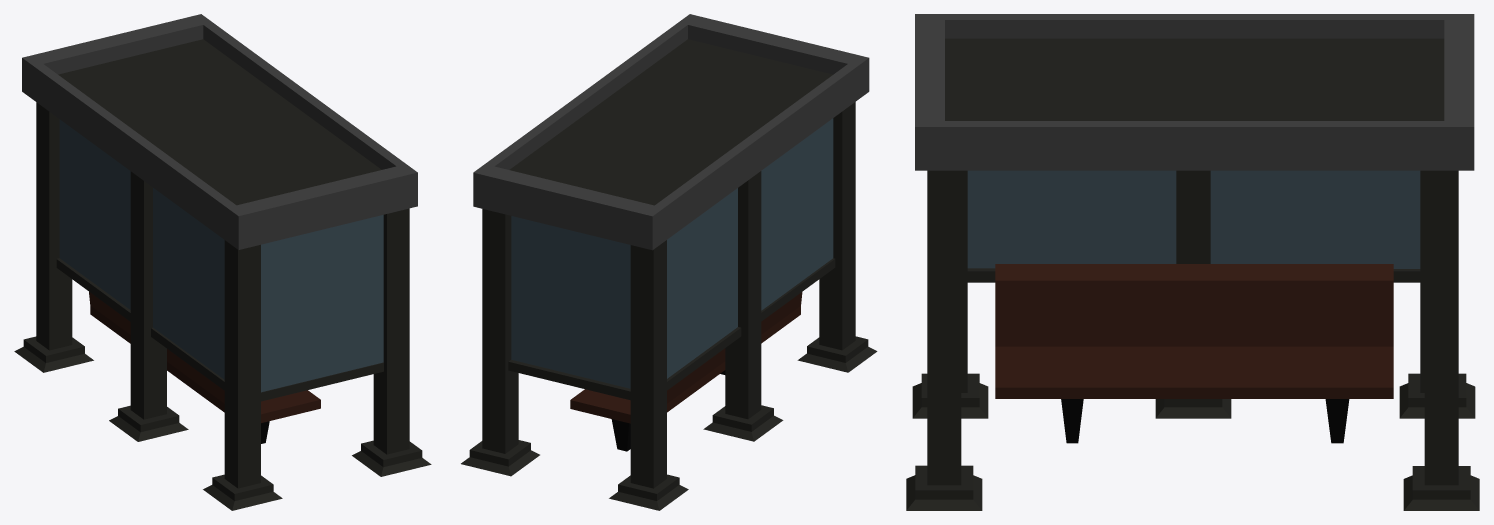
Rendered from LowPolyPrzystanek_JAM23.fbx.
3 views of the same model, side by side, from view 1: azimuth 30°, elevation 25°; view 2: azimuth 150°, elevation 25°; view 3: azimuth 270°, elevation 25° (orthographic). The views are drawn at different scales.
Visible parts, largest first — view 1: Cube.001; view 2: Cube.001; view 3: Cube.001.
Part boxes in pixels (x1,y1,x2,y2): Cube.001: (14, 14, 431, 510); Cube.001: (461, 14, 877, 510); Cube.001: (906, 14, 1479, 510).
Size of the model in its own units: 5.17 by 7.31 by 10.07.
